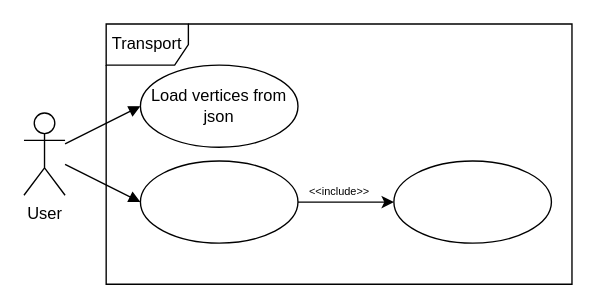
Some shapes in this 596 by 308 pixel diagram are drawn without their labels. The centre of each missing label's shape, as x and y in pixels:
"Load transport from json" goes at (218,201).
"Start simulation" goes at (472,201).
